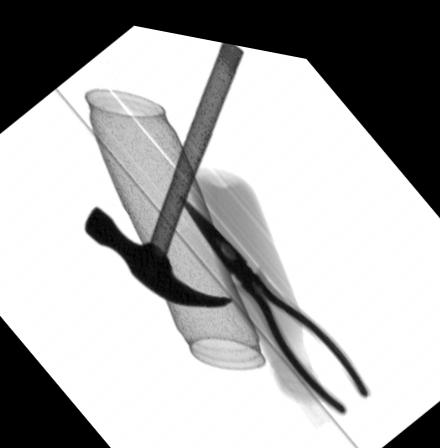Hammer: (84, 34, 242, 301)
Pliers: (179, 189, 371, 402)
